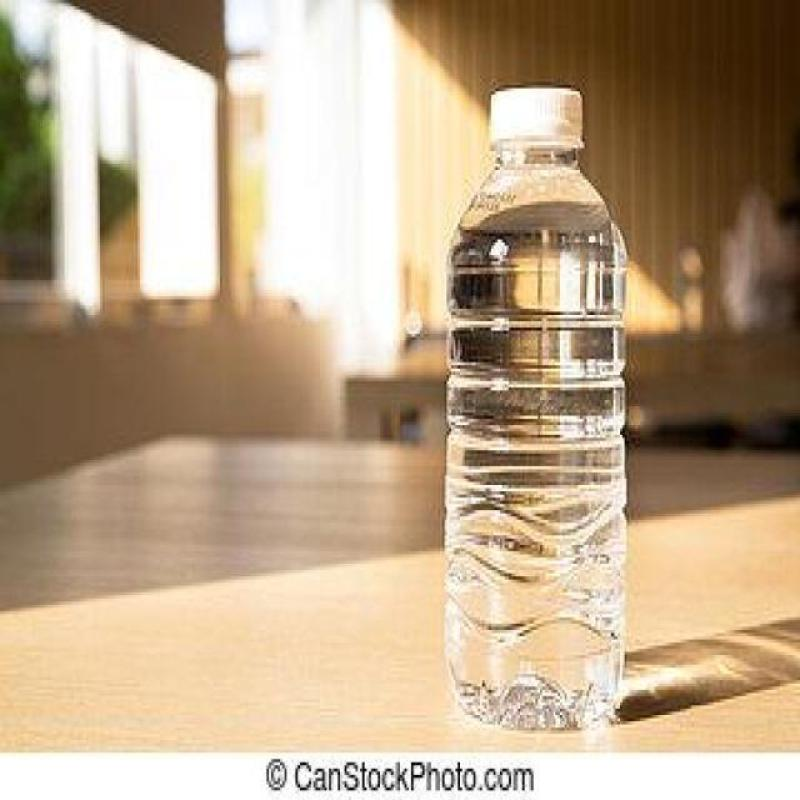botella: (443, 85, 628, 731)
